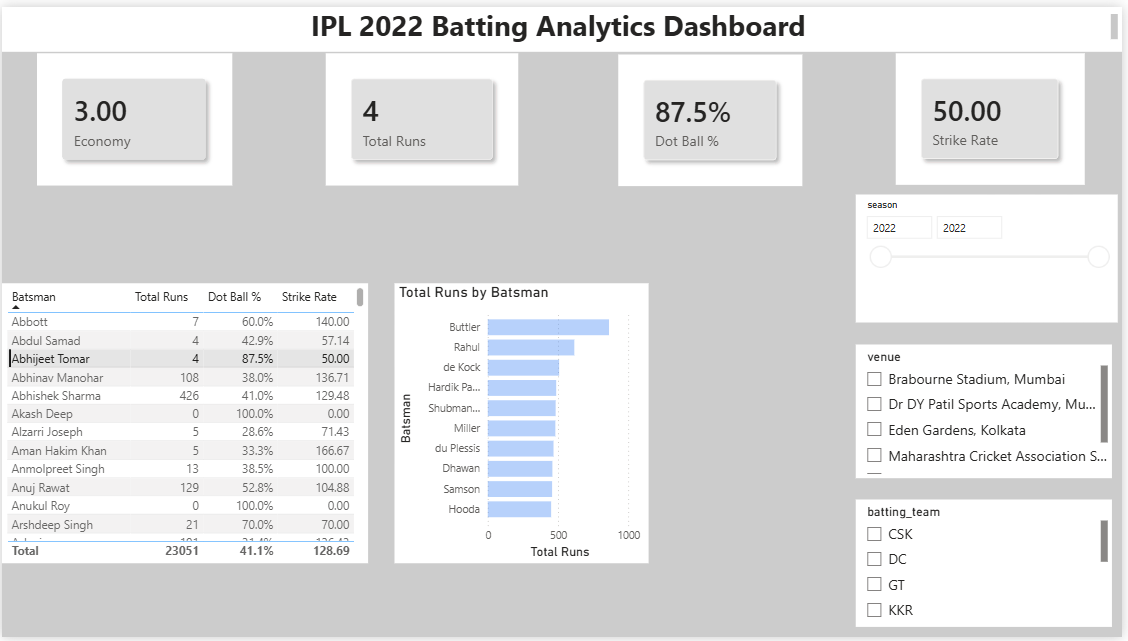

The dashboard page shown, as its layout file describes it:
{"tool":"powerbi","page":{"name":"Page 1","canvas":[1280,720],"ordinal":0},"visuals":[{"type":"cardVisual","fields":{"Data":["BallByBall.Economy"]},"box":[40,52.9,222.9,151.4],"z":1},{"type":"cardVisual","fields":{"Data":["BallByBall.Total Runs"]},"box":[370,52.9,220,151.4],"z":2},{"type":"cardVisual","fields":{"Data":["BallByBall.Strike Rate"]},"box":[1021.4,52.9,215.7,150],"z":3},{"type":"cardVisual","fields":{"Data":["BallByBall.Dot Ball %"]},"box":[704.3,54.3,210,150],"z":4},{"type":"tableEx","fields":{"Values":["BallByBall.Batsman","BallByBall.Total Runs","BallByBall.Dot Ball %","BallByBall.Strike Rate"]},"box":[0,315.7,418.6,320],"z":5},{"type":"clusteredBarChart","fields":{"Y":["BallByBall.Total Runs"],"Category":["BallByBall.Batsman"]},"box":[448.6,315.7,290,320],"z":6},{"type":"slicer","fields":{"Values":["BallByBall.season"]},"box":[975.7,214.3,298.6,145.7],"z":7},{"type":"slicer","fields":{"Values":["BallByBall.venue"]},"box":[975.7,385.7,292.9,152.9],"z":8},{"type":"slicer","fields":{"Values":["BallByBall.batting_team"]},"box":[975.7,562.9,292.9,145.7],"z":9},{"type":"textbox","box":[0,0,1280,51.4],"z":10}]}

Visuals, with their boxes in screenshot pixels (x1, y1, x2, y2), scaled from the page's 1280x720 canvas onto the 1128x641 screenshot:
cardVisual - BallByBall.Economy: <bbox>35, 47, 232, 182</bbox>
cardVisual - BallByBall.Total Runs: <bbox>326, 47, 520, 182</bbox>
cardVisual - BallByBall.Strike Rate: <bbox>900, 47, 1090, 181</bbox>
cardVisual - BallByBall.Dot Ball %: <bbox>621, 48, 806, 182</bbox>
tableEx - BallByBall.Batsman x BallByBall.Total Runs: <bbox>0, 281, 369, 566</bbox>
clusteredBarChart - BallByBall.Total Runs x BallByBall.Batsman: <bbox>395, 281, 651, 566</bbox>
slicer - BallByBall.season: <bbox>860, 191, 1123, 320</bbox>
slicer - BallByBall.venue: <bbox>860, 343, 1118, 480</bbox>
slicer - BallByBall.batting_team: <bbox>860, 501, 1118, 631</bbox>
textbox: <bbox>0, 0, 1127, 46</bbox>
